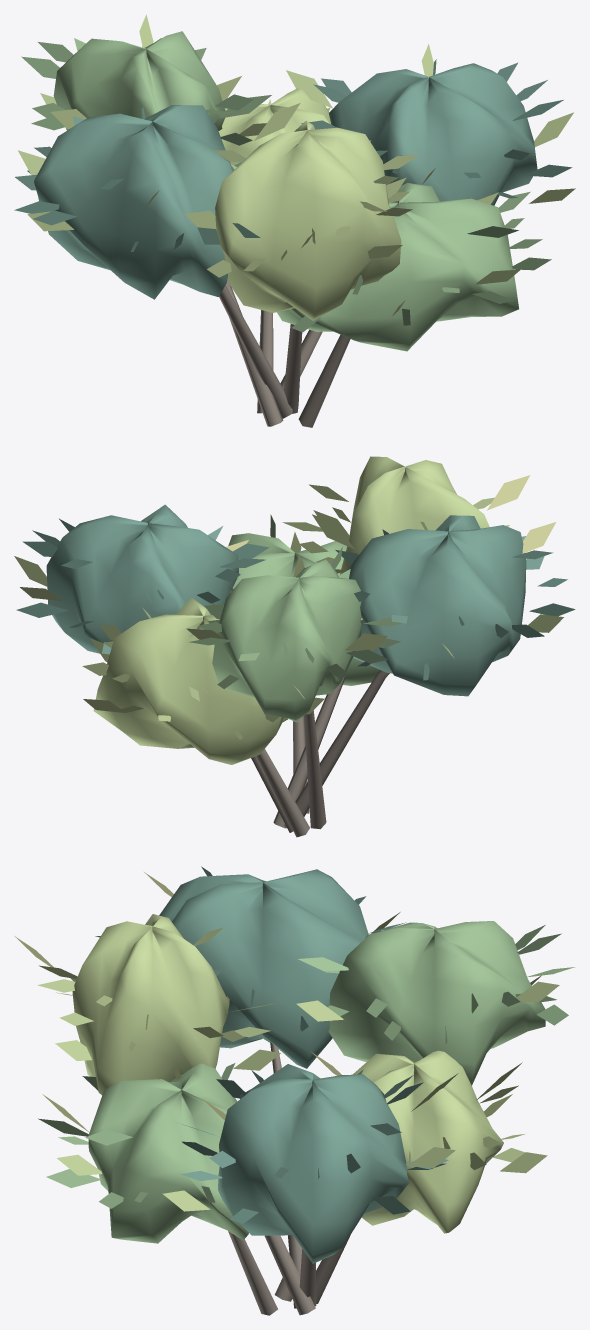
The model's file is bush_compact.glb.
3 renders of one model, top to bottom at view 1: azimuth 30°, elevation 25°; view 2: azimuth 150°, elevation 25°; view 3: azimuth 270°, elevation 25°, orthographic. The views are drawn at different scales.
Visible parts, largest first — view 1: bush_compact; view 2: bush_compact; view 3: bush_compact.
Part boxes in pixels (<box>): bush_compact: <box>14,14,575,427</box>; bush_compact: <box>14,456,575,837</box>; bush_compact: <box>14,866,574,1315</box>.
Bounding box in the file's own units: 2.67 × 1.56 × 2.21.
